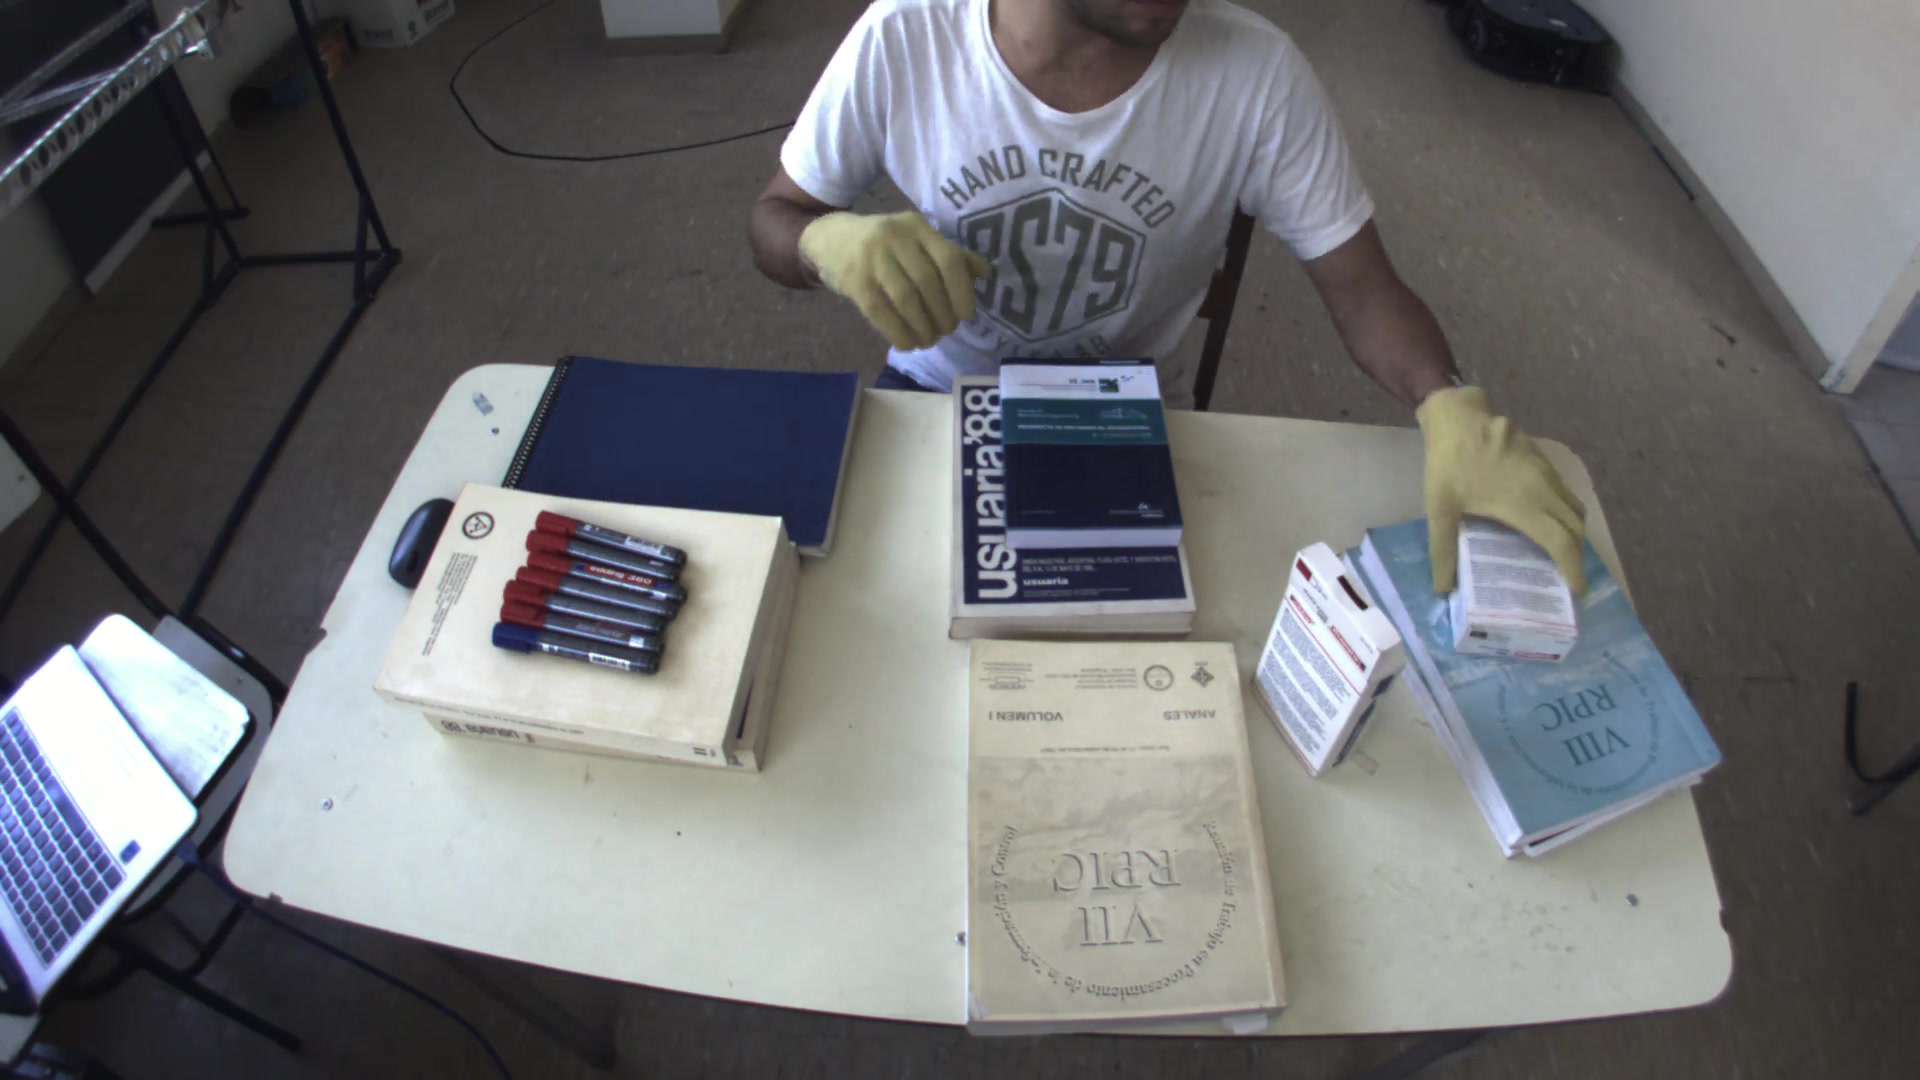hand: (1404, 380, 1613, 605), (793, 185, 997, 353)
